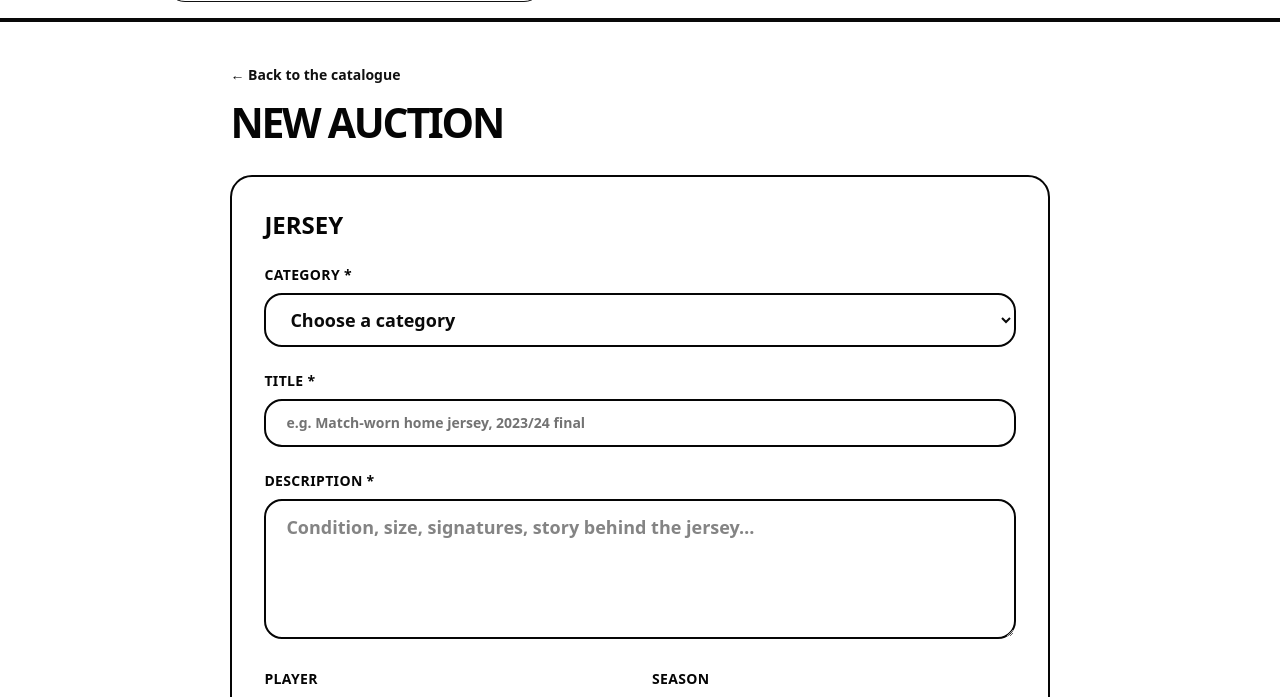
Test: NewListingView: saving › confirms that the draft was saved
Select "Player jerseys" in the dropdown labelled "Category *": (640, 320) [264, 293, 1016, 347]
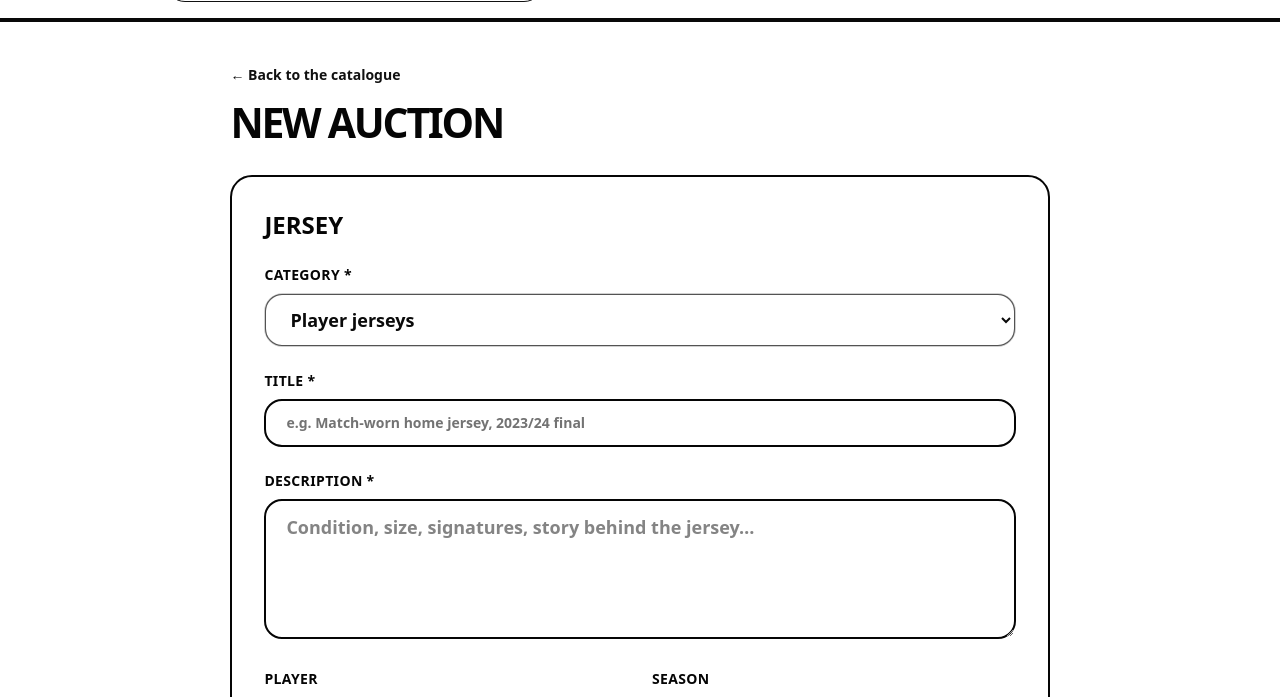
In the field labelled "Title *": (640, 423) [264, 399, 1016, 447], type "Signed home shirt"
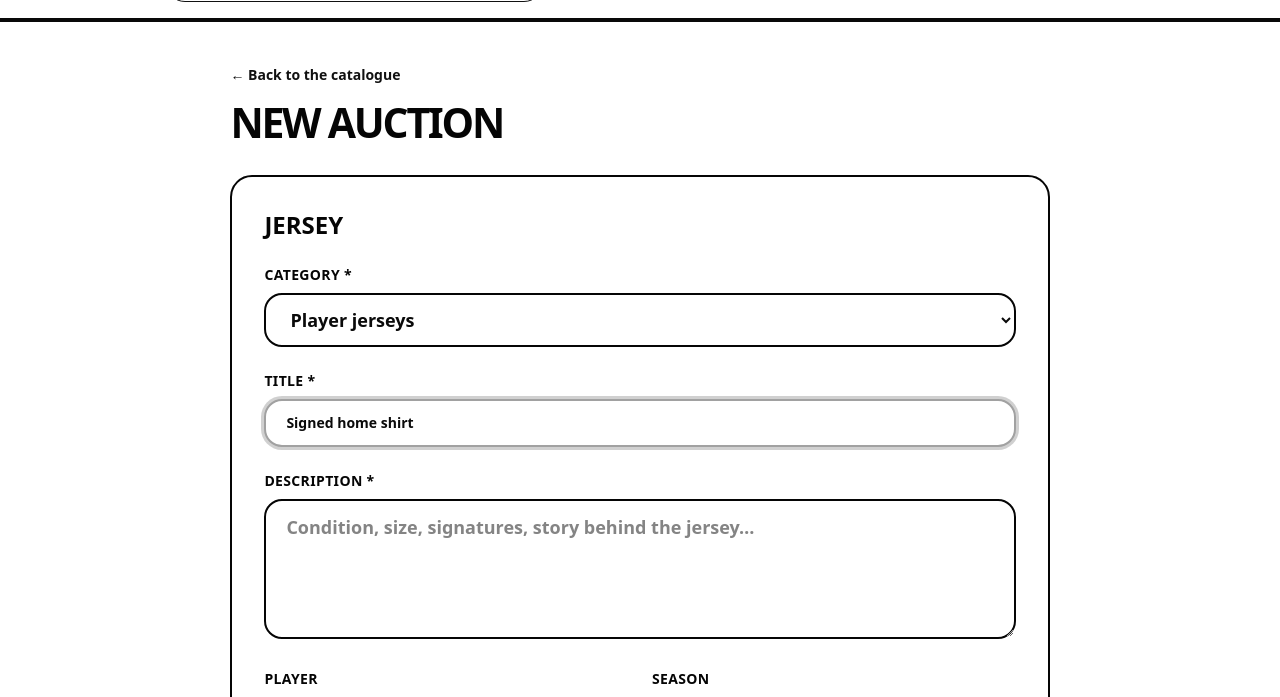
In the text box labelled "Description *": (640, 569) [264, 499, 1016, 639], type "Signed by the whole squad after the final."
(page scrolled)
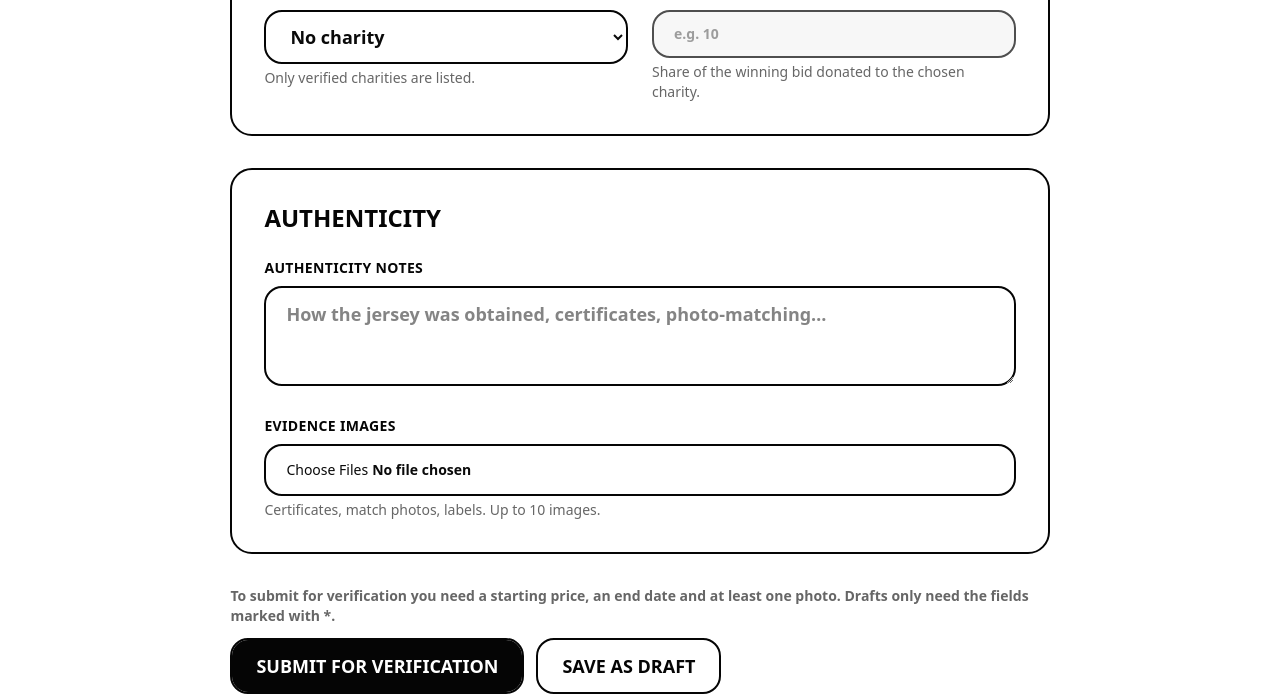
Click the button "SAVE AS DRAFT": (629, 666) [536, 638, 721, 694]
(page scrolled)
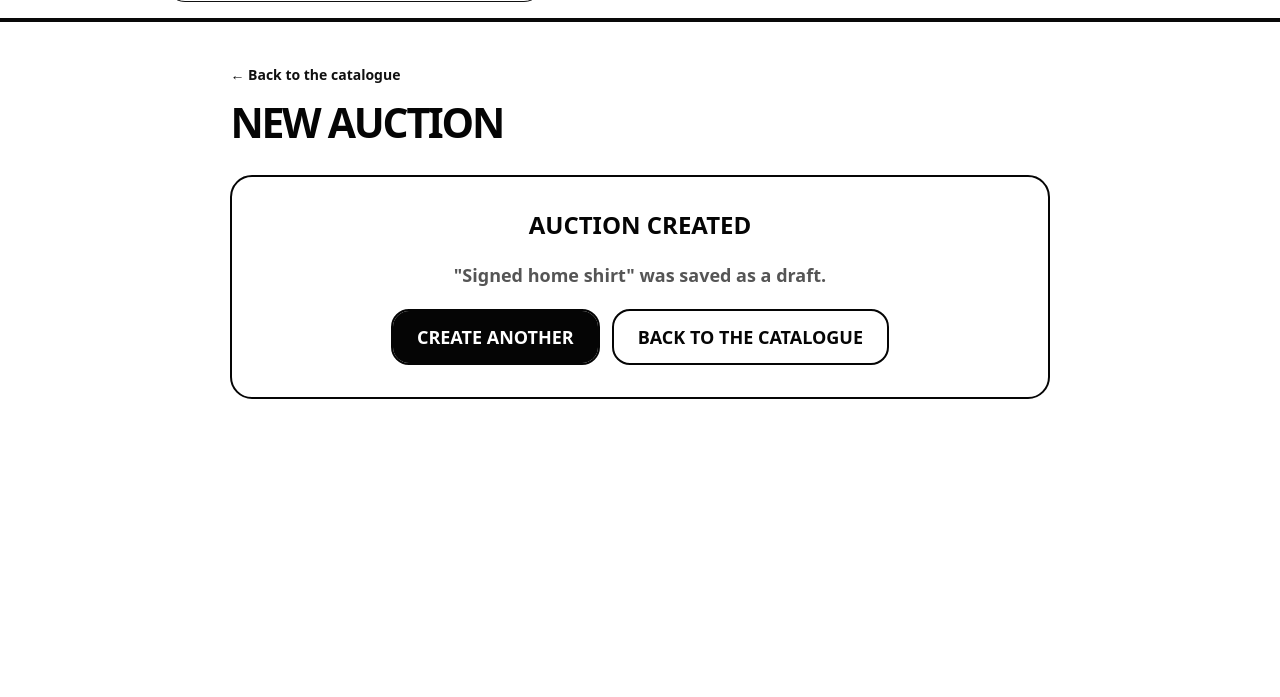
Now the text "\"Signed home shirt\" was saved as a draft." is shown, box [454, 263, 826, 287]
